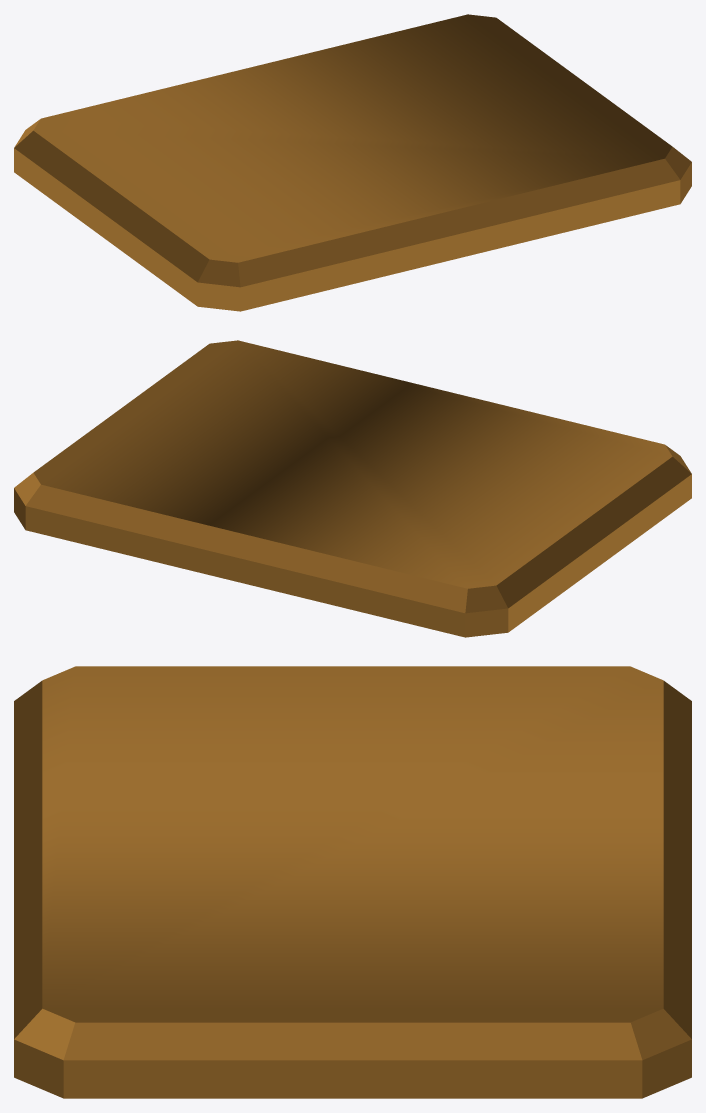
File: cutting board_v01.fbx
The picture shows the model from 3 angles, top to bottom: view 1: azimuth 30°, elevation 25°; view 2: azimuth 150°, elevation 25°; view 3: azimuth 270°, elevation 25°; orthographic projection. The views are drawn at different scales.
Visible parts, largest first — view 1: Cube; view 2: Cube; view 3: Cube.
Boxes of the visible parts, bbox=[...] form: Cube: bbox=[14, 14, 691, 311]; Cube: bbox=[14, 340, 691, 637]; Cube: bbox=[14, 666, 691, 1098].
Size of the model in its own units: 35.73 by 2.81 by 26.93.
